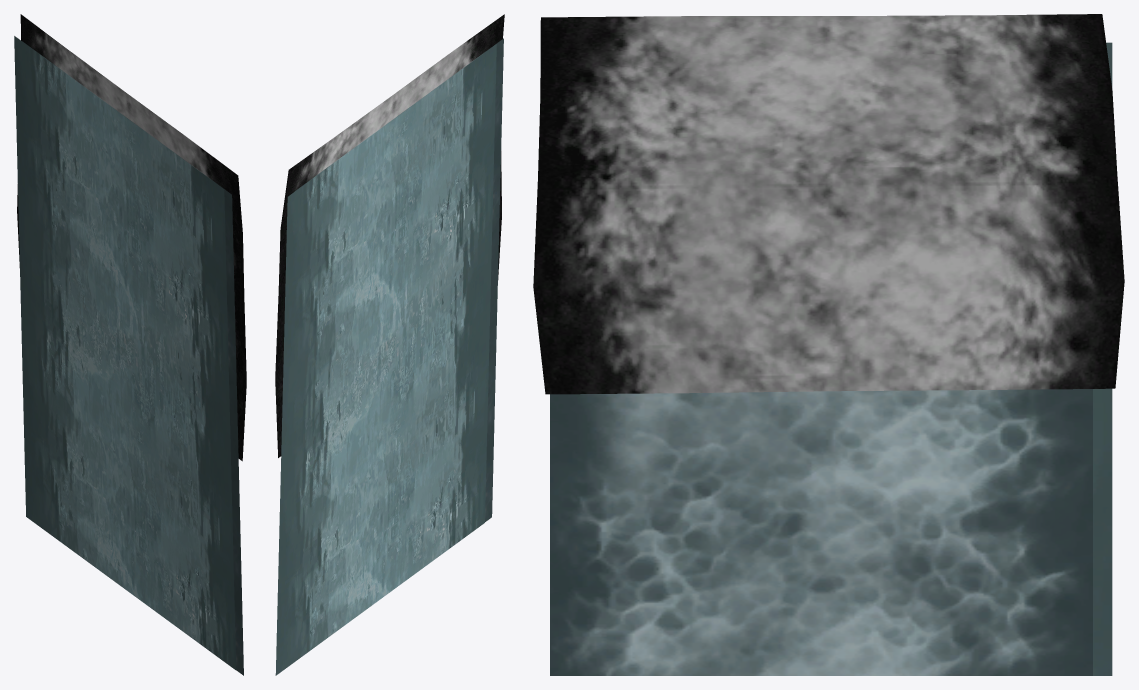
Rendered from waterfalls_set2_med_doublewide_withchop.obj.
3 views of the same model, side by side, from view 1: azimuth 30°, elevation 25°; view 2: azimuth 150°, elevation 25°; view 3: azimuth 270°, elevation 25° (orthographic). The views are drawn at different scales.
Parts seen in each view (by area): view 1: Geoset0, Geoset2, Geoset1; view 2: Geoset0, Geoset2, Geoset1; view 3: Geoset2, Geoset1, Geoset0.
Boxes of the visible parts, left/top/right/bottom form: Geoset0: left=14, top=36, right=236, bottom=670; Geoset2: left=17, top=14, right=246, bottom=461; Geoset1: left=22, top=41, right=243, bottom=675; Geoset0: left=275, top=44, right=496, bottom=675; Geoset2: left=275, top=14, right=504, bottom=457; Geoset1: left=295, top=38, right=503, bottom=521; Geoset2: left=533, top=14, right=1124, bottom=394; Geoset1: left=550, top=389, right=1092, bottom=675; Geoset0: left=1093, top=42, right=1112, bottom=675.
Size of the model in its own units: 1.33 by 52.58 by 42.94.
Materials: 3 (3 with a texture image).
